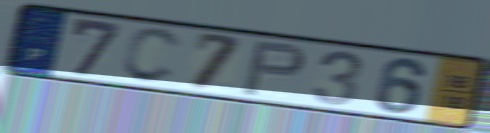3: (311, 49, 366, 107)
6: (372, 55, 429, 115)
7: (67, 15, 123, 79), (189, 30, 247, 91)
C: (119, 26, 185, 86)
P: (239, 39, 308, 98)
